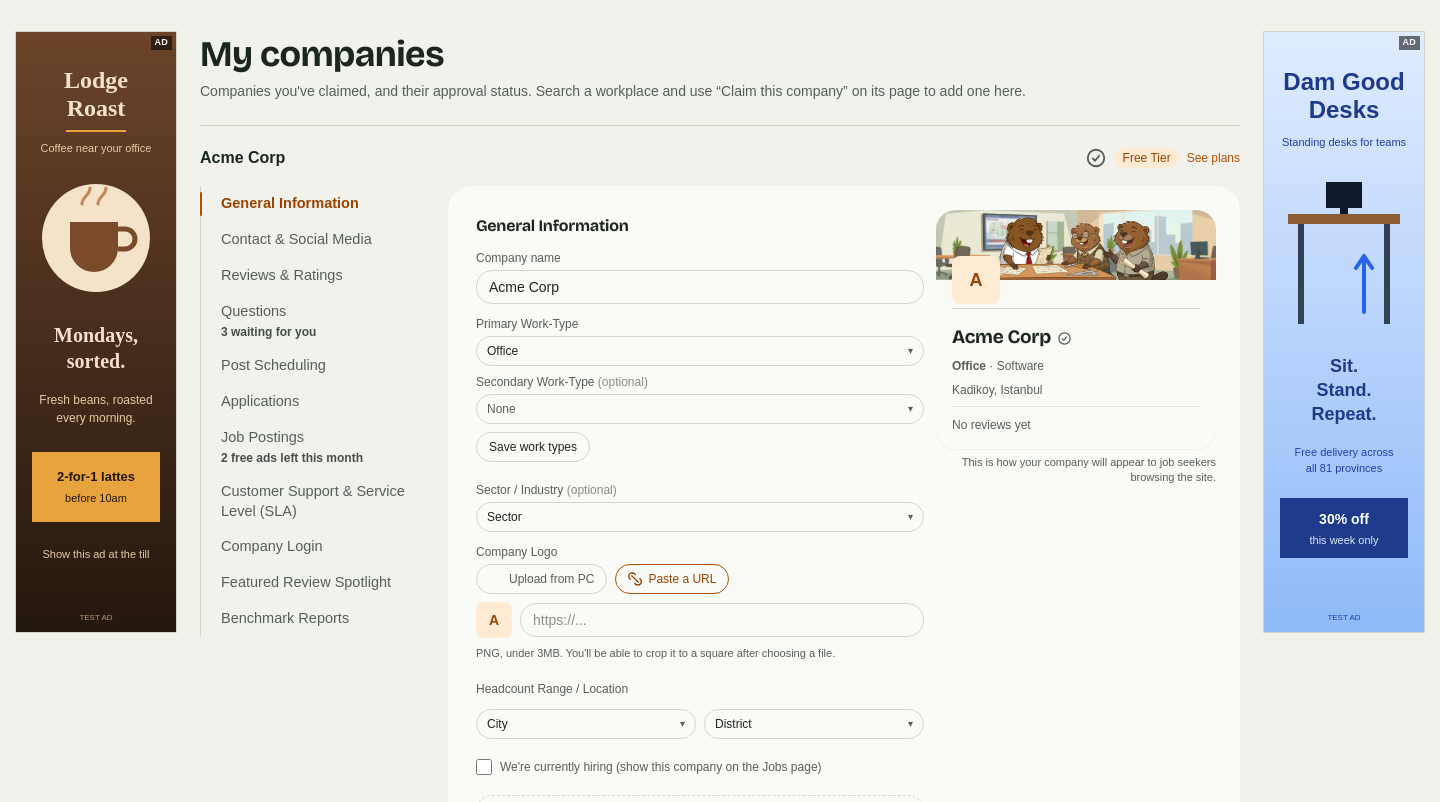
Test case: side panel is one list: the standard sections, then the paid features at the end - with the ads left and questions waiting in bold
Check: the button with aria-label "Primary work-type" shows "Office", box [476,336,924,366]
Check: the heading "General Information" is shown, box [476,216,628,235]
What coordinates should you click on to do the following:
click the button "Contact & Social Media"
I would click on:
 (312, 240)
Its box is [201,222,424,258].
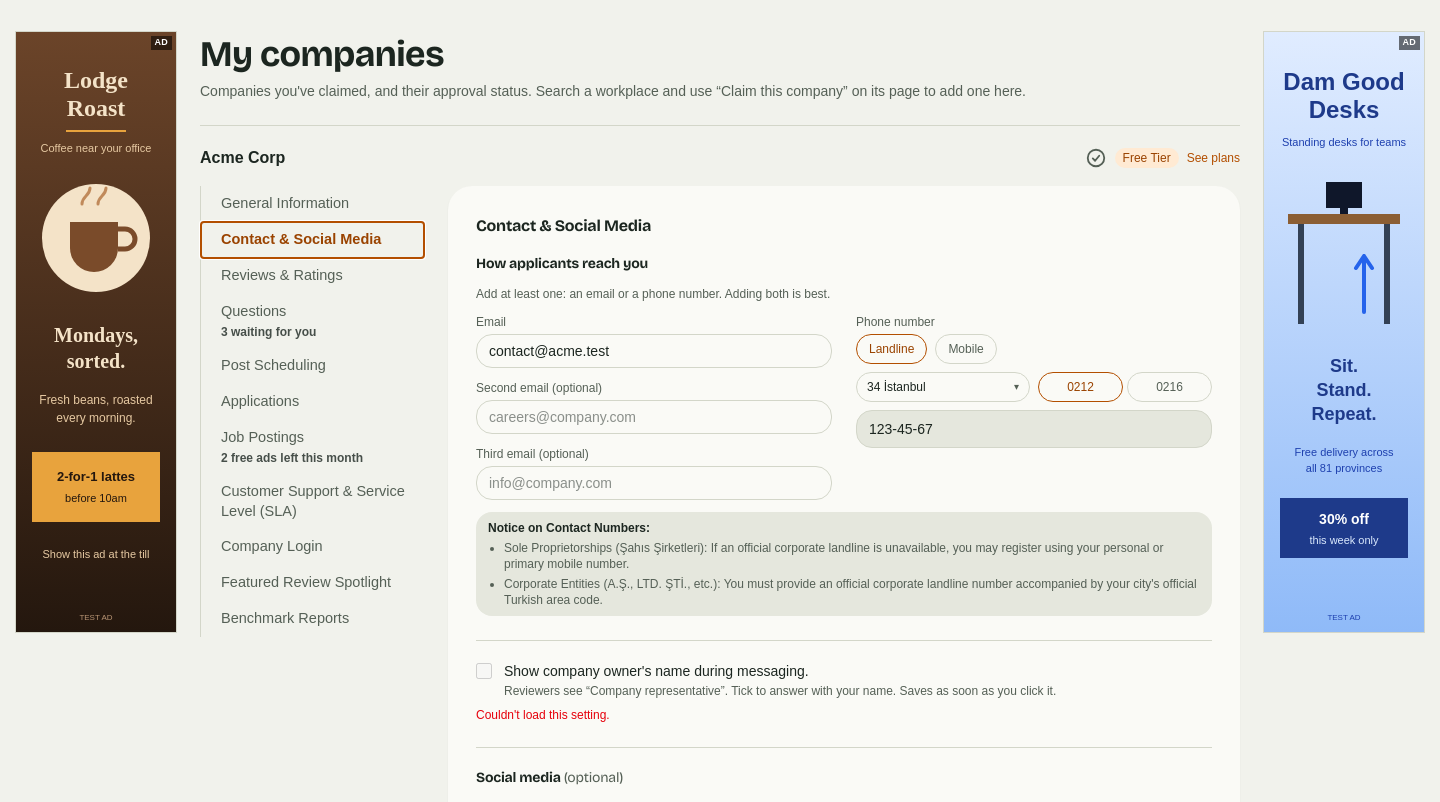
Check: the heading "Contact & Social Media" is shown, box [476,216,651,235]
What coordinates should you click on to do the following:
click the button "Reviews & Ratings"
I would click on:
 (312, 276)
Its box is [201,258,424,294].
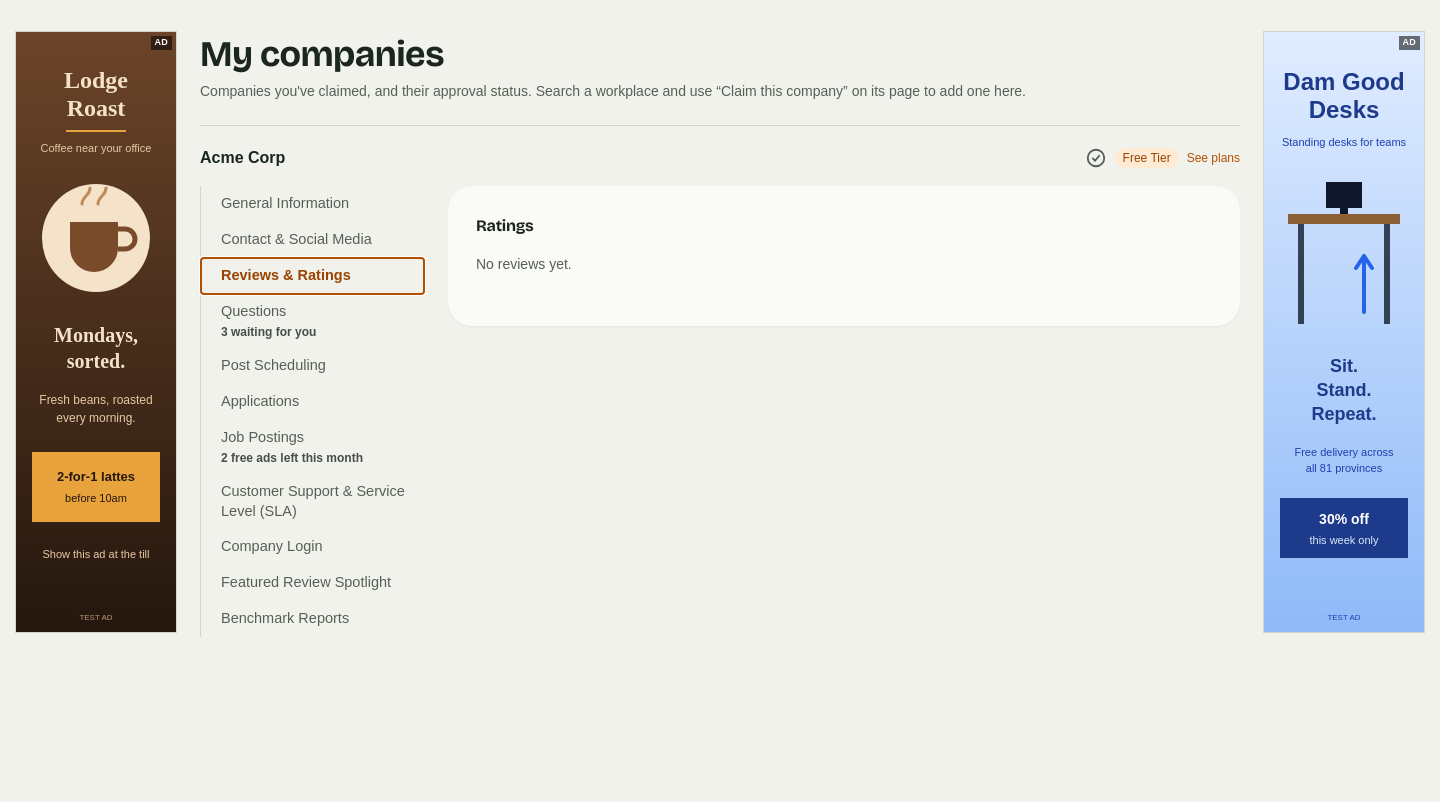
Check: the heading "Ratings" is shown, box [476,216,534,235]
